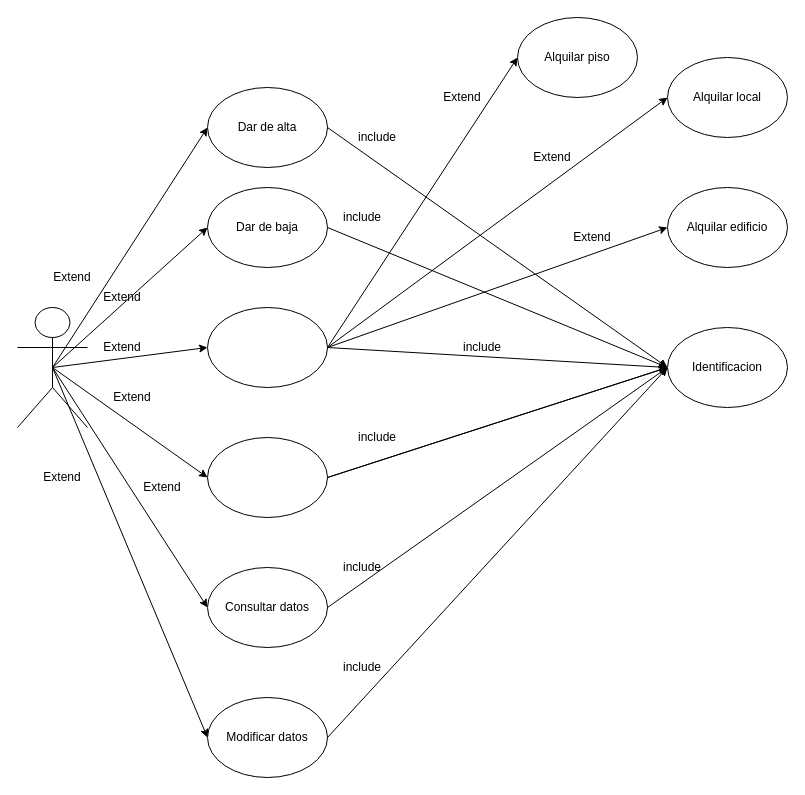
Some shapes in this 805 by 795 pixel diagram are drawn without their labels. Here are the shapes that lost their labels. From the top down, the centre of each, then its label:
(52,367): Inquilino
(267,347): Alquiler de inmuebles
(267,477): Desalquilar inmuebles
